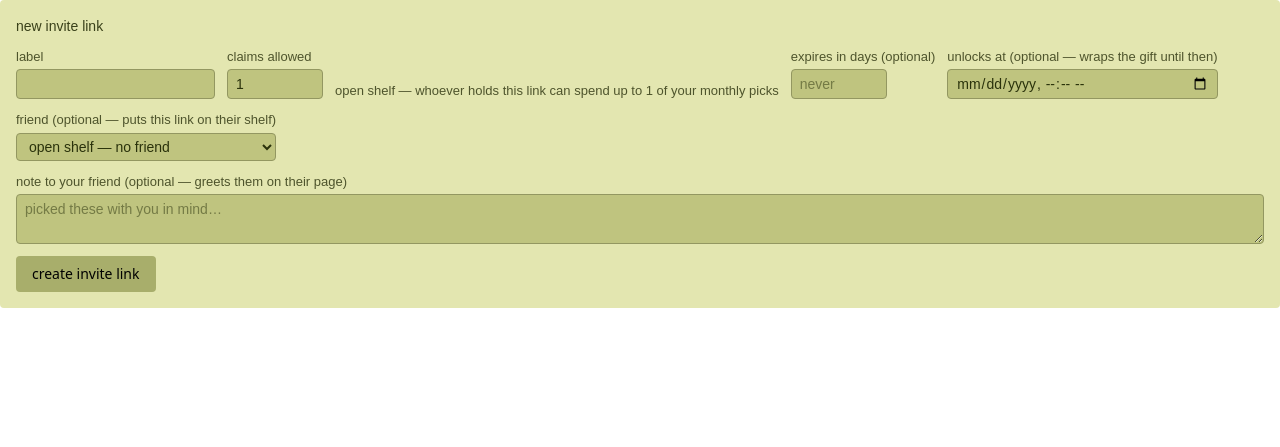
it: Links › create form › submits form and shows full invite URL with accessible copy button
Expected: the button "create invite link" is shown, [16,256,156,292]
In the field labelled "label": (116, 84) [16,69,215,99], type "Charlie"
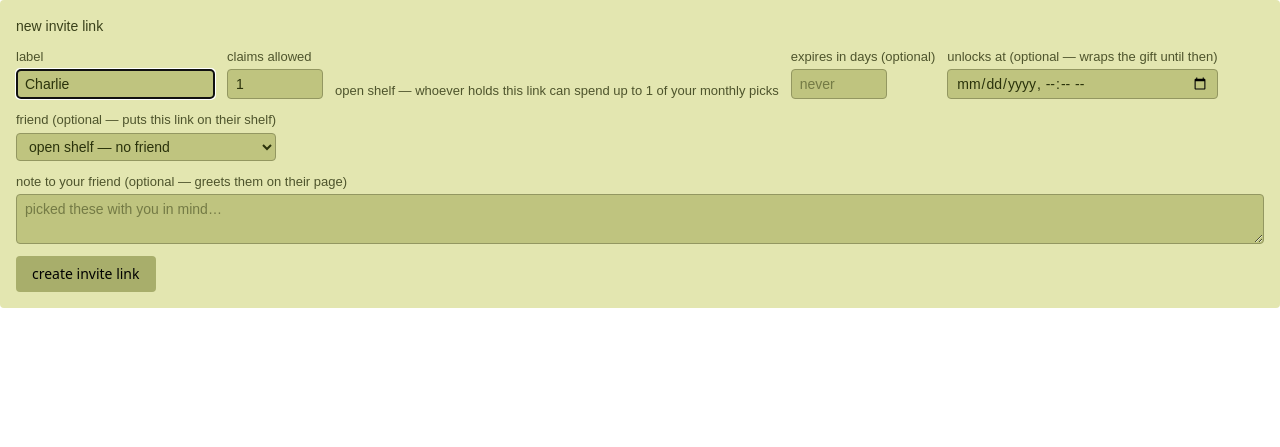
Click the button "create invite link": click(86, 274) [16,256,156,292]
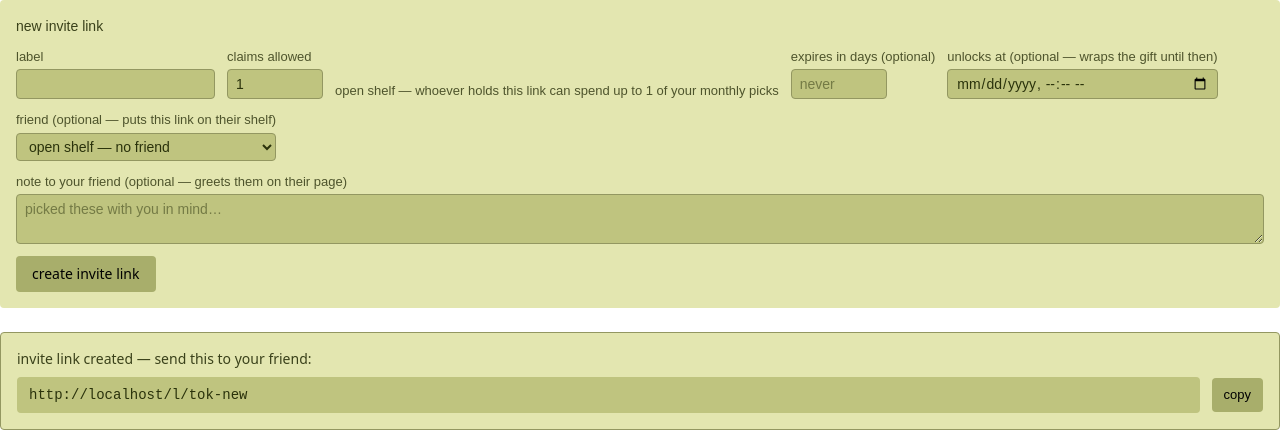
Now the button with aria-label "copy invite for Charlie" is shown, box [1212,378,1263,412]
